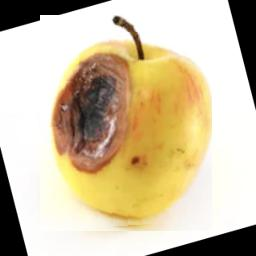Apple Rotten: (40, 15, 212, 231)
